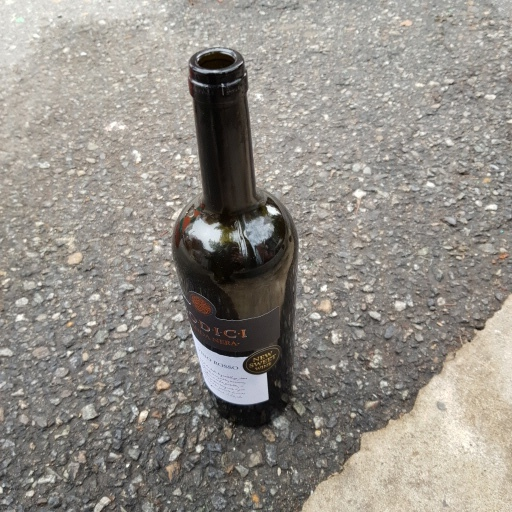Glass_2: (169, 47, 298, 432)
